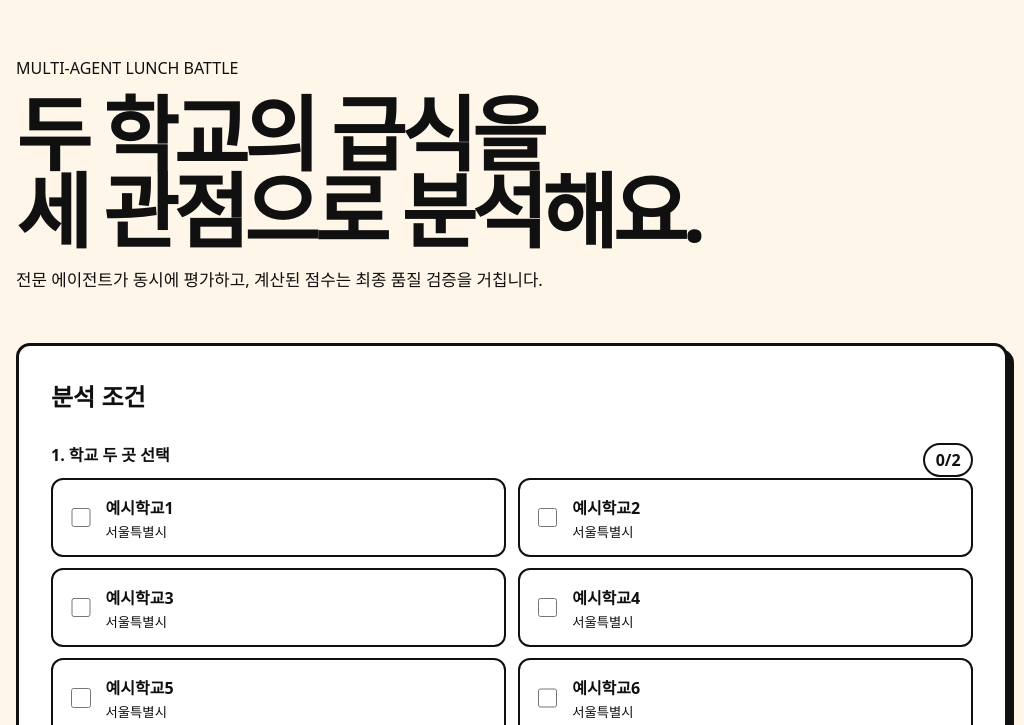
EvaluationAnalysis › shows the unavailable school and completes the other school analysis
Click the text "예시학교1" at point(140, 508), box left=106, top=496, right=174, bottom=518
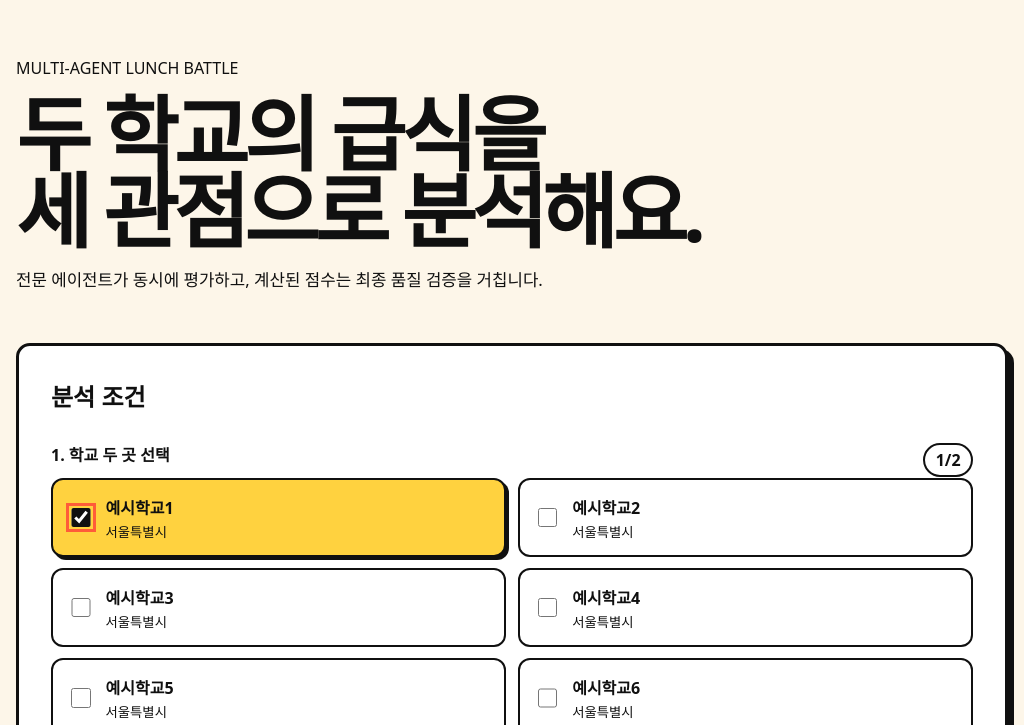
Click the text "예시학교2" at point(606, 508), box left=572, top=496, right=640, bottom=518
(page scrolled)
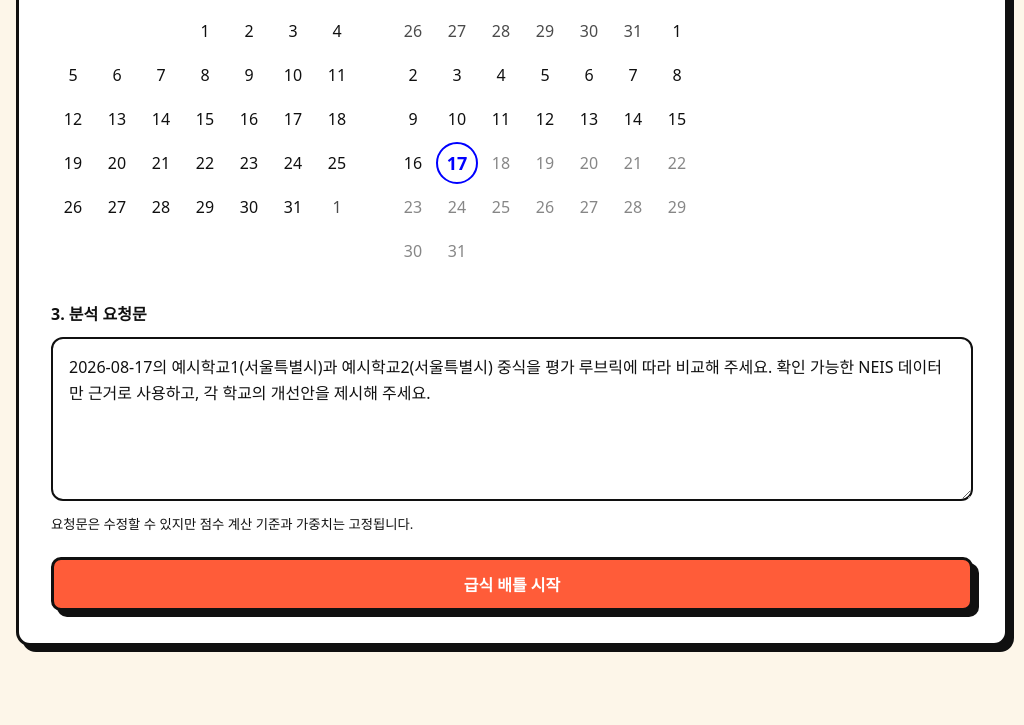
Click the button "급식 배틀 시작" at point(512, 584), box left=51, top=557, right=973, bottom=611
(page scrolled)
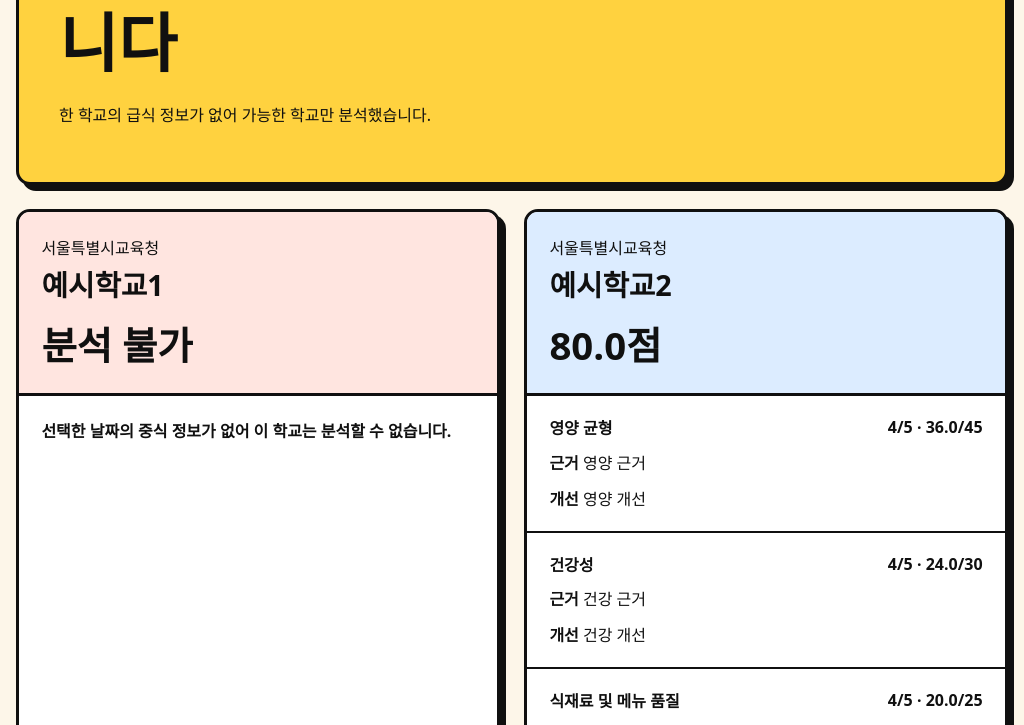
Check: the text "분석 불가" is shown, box left=41, top=319, right=193, bottom=371
Check: the text "선택한 날짜의 중식 정보가 없어 이 학교는 분석할 수 없습니다." is shown, box left=41, top=420, right=451, bottom=442
Check: the text "80.0점" is shown, box left=549, top=319, right=662, bottom=371
